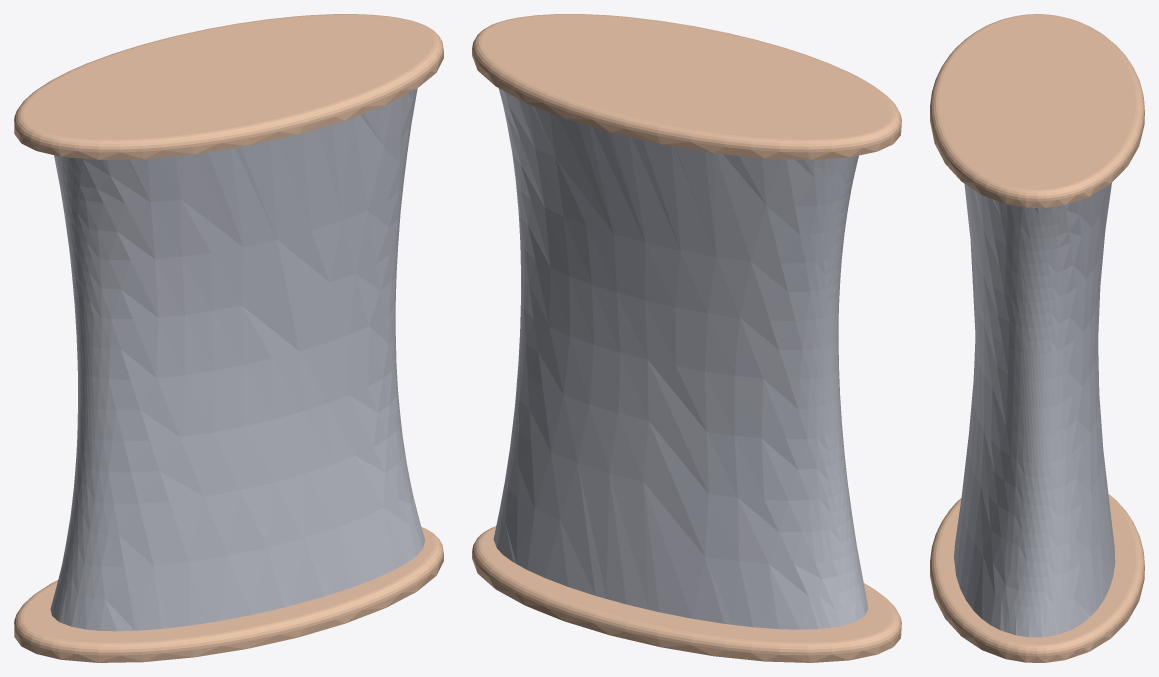
Rendered from formulate_counter_pillar_tradeshow_display.glb.
3 renders of one model, left to right at view 1: azimuth 30°, elevation 25°; view 2: azimuth 150°, elevation 25°; view 3: azimuth 270°, elevation 25°, orthographic. The views are drawn at different scales.
Parts seen in each view (by area): view 1: 3DSMeshMatrix (×3); view 2: 3DSMeshMatrix (×3); view 3: 3DSMeshMatrix (×3).
Boxes of the visible parts, x1=… form: 3DSMeshMatrix (×3): x1=14, y1=14, x2=443, y2=662; 3DSMeshMatrix (×3): x1=472, y1=14, x2=901, y2=662; 3DSMeshMatrix (×3): x1=930, y1=14, x2=1144, y2=662.
Size of the model in its own units: 800 by 960 by 398.
